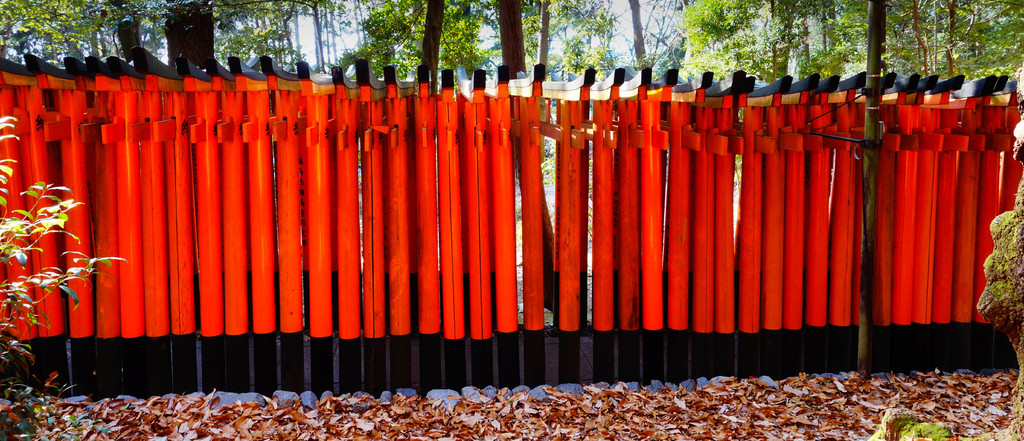Tree: (867, 55, 1023, 440), (524, 0, 1023, 75), (0, 0, 377, 76), (373, 0, 490, 96), (494, 0, 528, 85)
